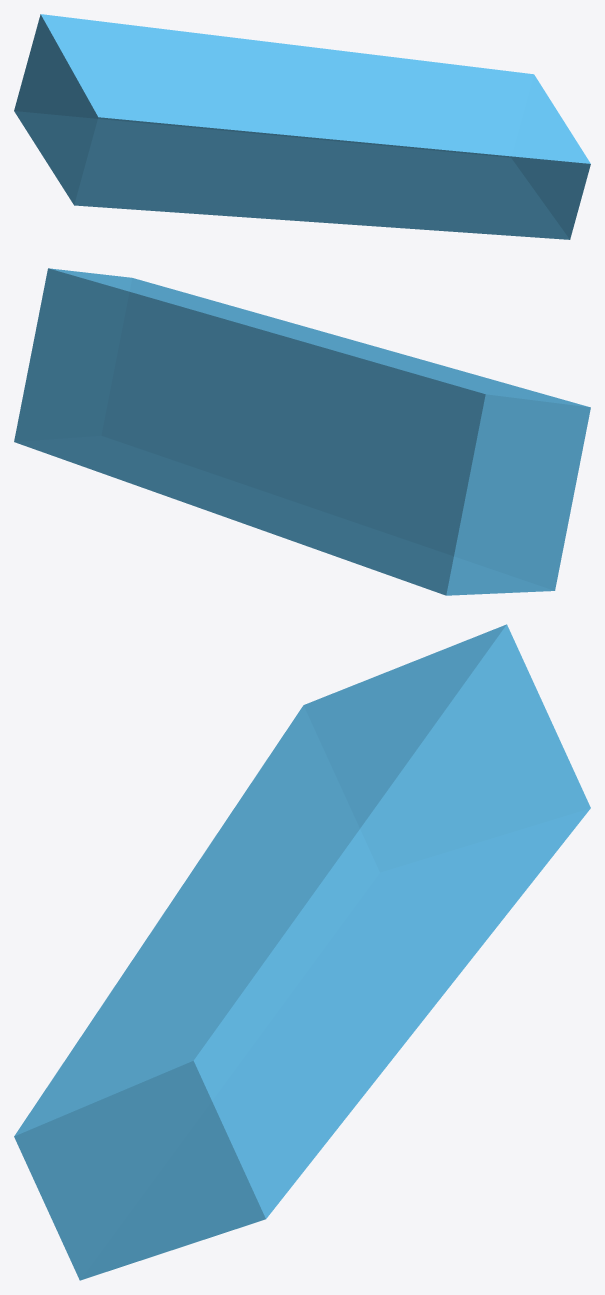
The model's file is Event_421556567_HErechit_3.fbx.
The picture shows the model from 3 angles, top to bottom: view 1: azimuth 30°, elevation 25°; view 2: azimuth 150°, elevation 25°; view 3: azimuth 270°, elevation 25°; orthographic projection. The views are drawn at different scales.
Visible parts, largest first — view 1: Model; view 2: Model; view 3: Model.
Boxes of the visible parts, bbox=[...] form: Model: bbox=[14, 14, 590, 239]; Model: bbox=[14, 268, 590, 595]; Model: bbox=[14, 624, 590, 1280].
Size of the model in its own units: 1.61 by 0.857 by 1.27.
